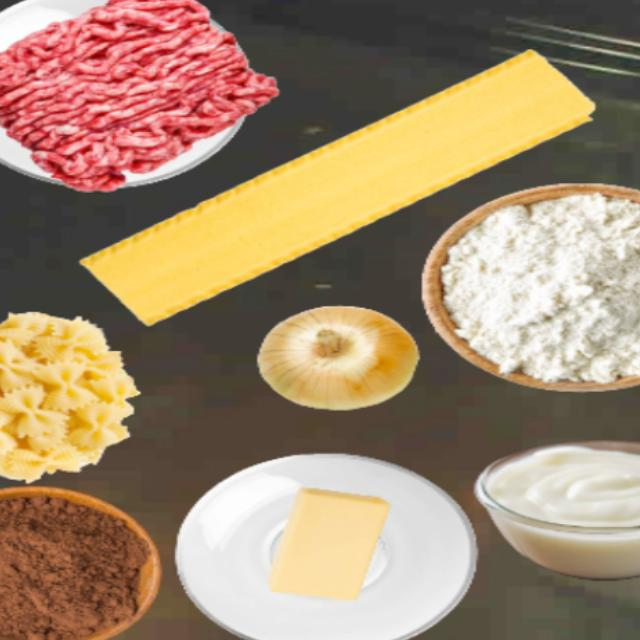Cocoa: (0, 486, 158, 639)
Flour: (440, 191, 639, 384)
